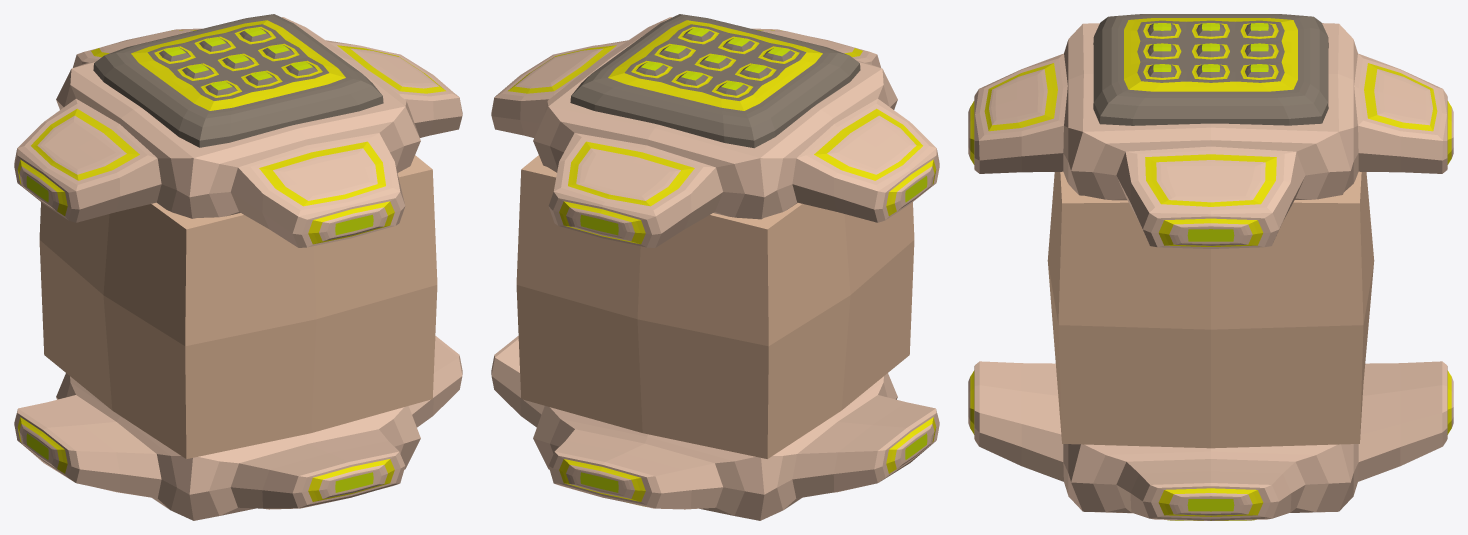
The model's file is В5-Желейная взрывчатка.fbx.
3 renders of one model, left to right at view 1: azimuth 30°, elevation 25°; view 2: azimuth 150°, elevation 25°; view 3: azimuth 270°, elevation 25°, orthographic. The views are drawn at different scales.
Parts seen in each view (by area): view 1: Cube.002, Cube.003, Cube.001, Cube; view 2: Cube.002, Cube.003, Cube.001, Cube; view 3: Cube.002, Cube.003, Cube.001, Cube.
Boxes of the visible parts, left/top/right/bottom form: Cube.002: left=39, top=155, right=437, bottom=458; Cube.003: left=14, top=17, right=462, bottom=247; Cube.001: left=14, top=336, right=462, bottom=520; Cube: left=93, top=14, right=383, bottom=147; Cube.002: left=516, top=155, right=914, bottom=458; Cube.003: left=491, top=17, right=939, bottom=247; Cube.001: left=491, top=336, right=939, bottom=520; Cube: left=570, top=14, right=860, bottom=148; Cube.002: left=1047, top=171, right=1374, bottom=448; Cube.003: left=968, top=23, right=1453, bottom=248; Cube.001: left=968, top=361, right=1453, bottom=520; Cube: left=1093, top=14, right=1328, bottom=125.
Size of the model in its own units: 421 by 397 by 421.
